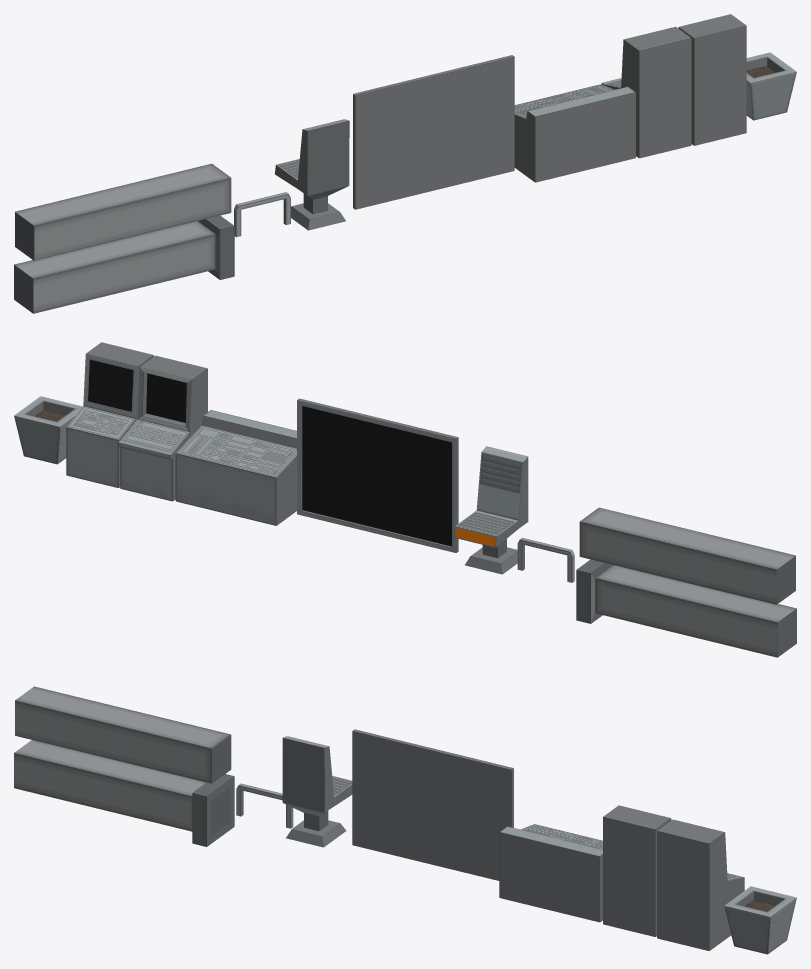
Rendered from Scifi-Environments.fbx.
3 views of the same model, one above another, from view 1: azimuth 30°, elevation 25°; view 2: azimuth 150°, elevation 25°; view 3: azimuth 330°, elevation 25° (orthographic).
Visible parts, largest first — view 1: TV, ConnectPipe, Pipe, PC-3, PC-2, PC-1, Chair, Vase, Tall-Handrail; view 2: TV, ConnectPipe, Pipe, PC-3, PC-2, PC-1, Chair, Vase, Tall-Handrail; view 3: TV, ConnectPipe, Pipe, PC-1, PC-3, PC-2, Chair, Vase, Tall-Handrail.
Boxes of the visible parts, <box> form: TV: <box>353,55,514,209</box>; ConnectPipe: <box>14,215,234,313</box>; Pipe: <box>15,163,231,260</box>; PC-3: <box>514,84,635,182</box>; PC-2: <box>601,26,691,158</box>; PC-1: <box>678,14,746,145</box>; Chair: <box>275,119,349,230</box>; Vase: <box>746,52,796,120</box>; Tall-Handrail: <box>234,192,290,237</box>; TV: <box>297,398,458,552</box>; ConnectPipe: <box>576,559,796,657</box>; Pipe: <box>579,507,795,604</box>; PC-3: <box>175,410,296,525</box>; PC-2: <box>118,355,207,501</box>; PC-1: <box>66,342,153,487</box>; Chair: <box>453,446,528,574</box>; Vase: <box>14,396,82,464</box>; Tall-Handrail: <box>517,537,574,582</box>; TV: <box>352,729,513,880</box>; ConnectPipe: <box>14,740,234,846</box>; Pipe: <box>15,686,231,783</box>; PC-1: <box>657,819,744,950</box>; PC-3: <box>499,824,602,922</box>; PC-2: <box>603,805,671,936</box>; Chair: <box>282,736,352,847</box>; Vase: <box>724,886,796,954</box>; Tall-Handrail: <box>236,783,293,828</box>.
Size of the model in its own units: 2265 by 397 by 201.
